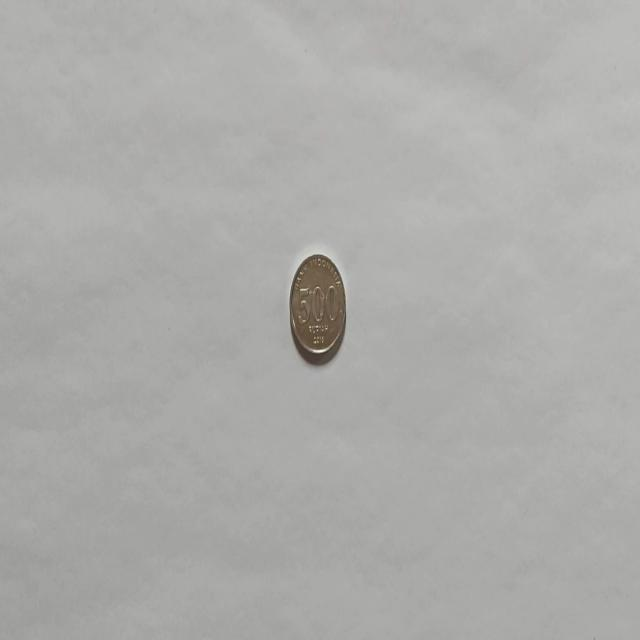lima ratus rupiah: (288, 252, 346, 362)
